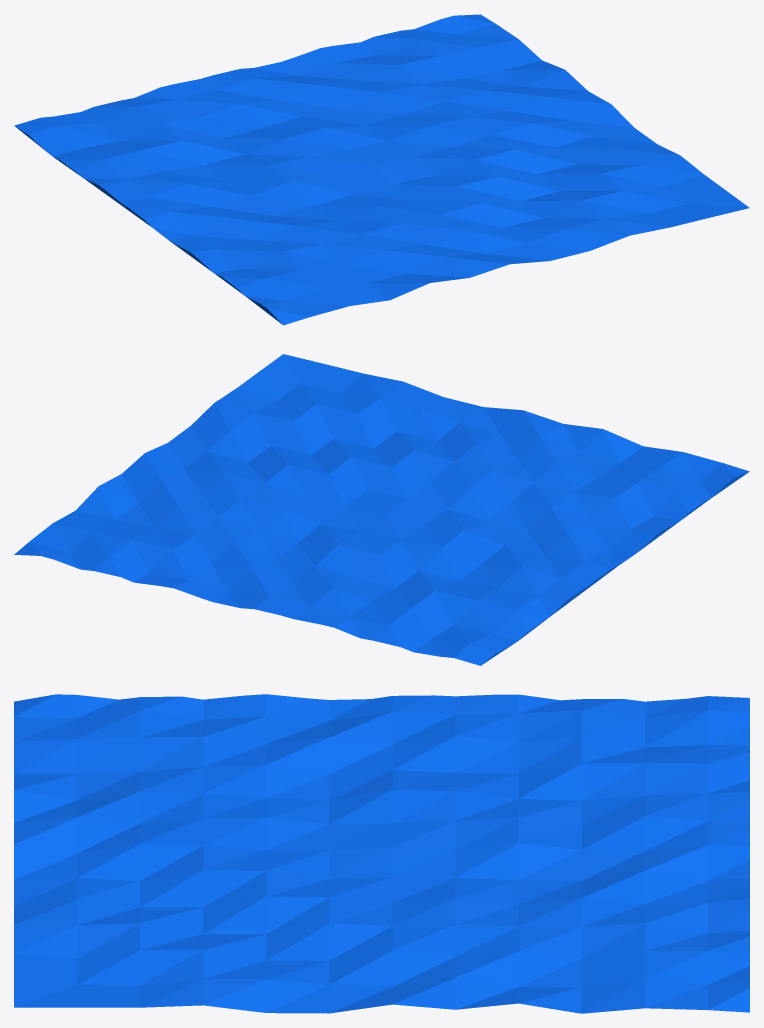
The model's file is resort-ocean.glb.
3 views of the same model, one above another, from view 1: azimuth 30°, elevation 25°; view 2: azimuth 150°, elevation 25°; view 3: azimuth 270°, elevation 25° (orthographic). The views are drawn at different scales.
Visible parts, largest first — view 1: Ocean; view 2: Ocean; view 3: Ocean.
Part boxes in pixels (x1,y1,x2,y2): Ocean: (14,14,749,325); Ocean: (14,354,749,665); Ocean: (14,694,749,1013).
Size of the model in its own units: 175 by 2.97 by 175.
